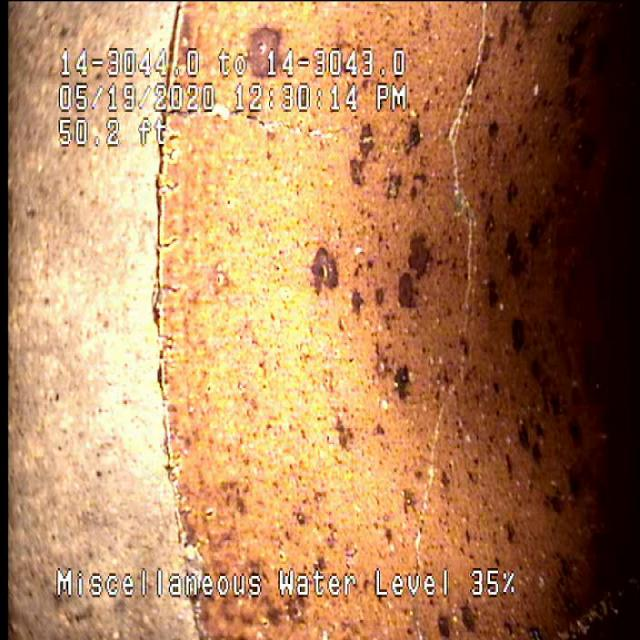Crack: (395, 31, 545, 538)
